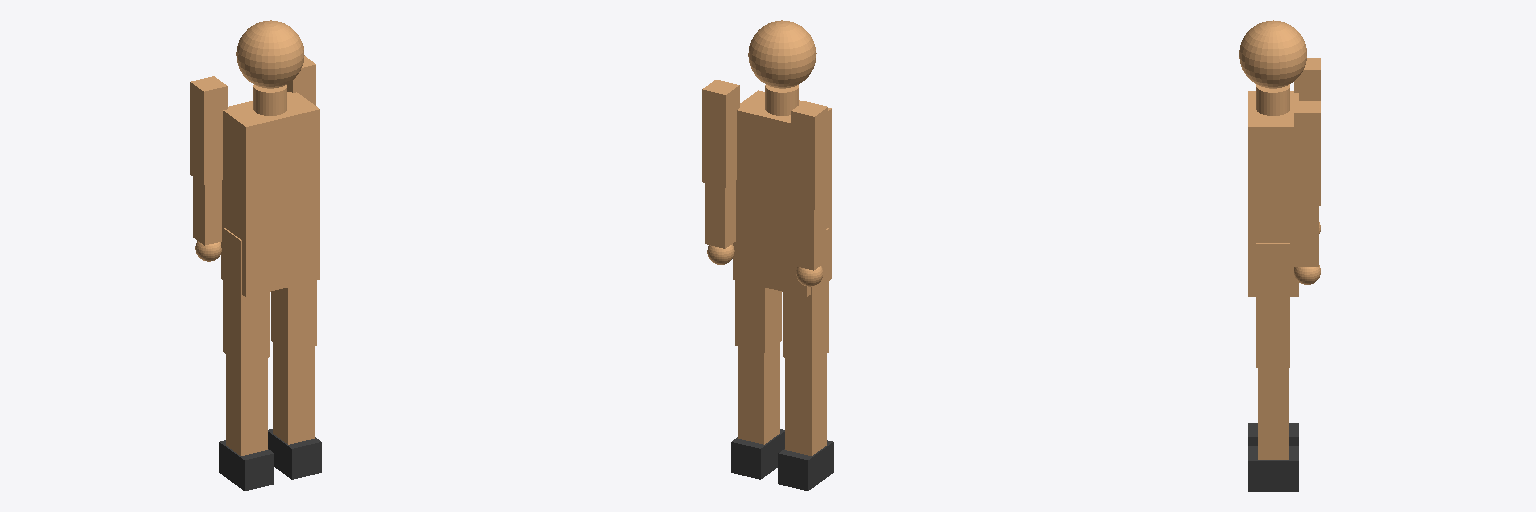
URDF robot description (human):
<?xml version="1.0" ?>
<robot name="human">

  <!-- Base link (pelvis) -->
  <link name="pelvis">
    <inertial>
      <mass value="10"/>
      <inertia ixx="0.5" ixy="0" ixz="0" iyy="0.5" iyz="0" izz="0.5"/>
    </inertial>
    <visual>
      <geometry>
        <box size="0.25 0.15 0.25"/>
      </geometry>
      <material name="skin">
        <color rgba="0.9 0.7 0.5 1"/>
      </material>
    </visual>
    <collision>
      <geometry>
        <box size="0.25 0.15 0.25"/>
      </geometry>
    </collision>
  </link>

  <!-- Torso -->
  <joint name="torso_joint" type="fixed">
    <parent link="pelvis"/>
    <child link="torso"/>
    <origin xyz="0 0 0.25" rpy="0 0 0"/>
  </joint>

  <link name="torso">
    <inertial>
      <mass value="8"/>
      <inertia ixx="0.3" ixy="0" ixz="0" iyy="0.3" iyz="0" izz="0.2"/>
    </inertial>
    <visual>
      <geometry>
        <box size="0.25 0.15 0.35"/>
      </geometry>
      <material name="skin">
        <color rgba="0.9 0.7 0.5 1"/>
      </material>
    </visual>
    <collision>
      <geometry>
        <box size="0.25 0.15 0.35"/>
      </geometry>
    </collision>
  </link>

  <!-- Neck -->
  <joint name="neck_joint" type="revolute">
    <parent link="torso"/>
    <child link="neck"/>
    <origin xyz="0 0 0.2" rpy="0 0 0"/>
    <axis xyz="0 1 0"/>
    <limit lower="-0.5" upper="0.5" effort="10" velocity="1"/>
  </joint>

  <link name="neck">
    <inertial>
      <mass value="1"/>
      <inertia ixx="0.01" ixy="0" ixz="0" iyy="0.01" iyz="0" izz="0.01"/>
    </inertial>
    <visual>
      <geometry>
        <cylinder length="0.1" radius="0.05"/>
      </geometry>
      <material name="skin">
        <color rgba="0.9 0.7 0.5 1"/>
      </material>
    </visual>
    <collision>
      <geometry>
        <cylinder length="0.1" radius="0.05"/>
      </geometry>
    </collision>
  </link>

  <!-- Head -->
  <joint name="head_joint" type="fixed">
    <parent link="neck"/>
    <child link="head"/>
    <origin xyz="0 0 0.15" rpy="0 0 0"/>
  </joint>

  <link name="head">
    <inertial>
      <mass value="2"/>
      <inertia ixx="0.05" ixy="0" ixz="0" iyy="0.05" iyz="0" izz="0.05"/>
    </inertial>
    <visual>
      <geometry>
        <sphere radius="0.1"/>
      </geometry>
      <material name="skin">
        <color rgba="0.9 0.7 0.5 1"/>
      </material>
    </visual>
    <collision>
      <geometry>
        <sphere radius="0.1"/>
      </geometry>
    </collision>
  </link>

  <!-- Left Arm -->
  <joint name="left_shoulder_joint" type="revolute">
    <parent link="torso"/>
    <child link="left_upper_arm"/>
    <origin xyz="0.15 0.1 0.1" rpy="0 0 0"/>
    <axis xyz="1 0 0"/>
    <limit lower="-2" upper="2" effort="10" velocity="2"/>
  </joint>

  <link name="left_upper_arm">
    <inertial>
      <mass value="2"/>
      <inertia ixx="0.02" ixy="0" ixz="0" iyy="0.02" iyz="0" izz="0.01"/>
    </inertial>
    <visual>
      <geometry>
        <box size="0.08 0.08 0.3"/>
      </geometry>
      <material name="skin">
        <color rgba="0.9 0.7 0.5 1"/>
      </material>
    </visual>
    <collision>
      <geometry>
        <box size="0.08 0.08 0.3"/>
      </geometry>
    </collision>
  </link>

  <joint name="left_elbow_joint" type="revolute">
    <parent link="left_upper_arm"/>
    <child link="left_forearm"/>
    <origin xyz="0 0 -0.2" rpy="0 0 0"/>
    <axis xyz="1 0 0"/>
    <limit lower="-2" upper="0" effort="10" velocity="2"/>
  </joint>

  <link name="left_forearm">
    <inertial>
      <mass value="1.5"/>
      <inertia ixx="0.01" ixy="0" ixz="0" iyy="0.01" iyz="0" izz="0.008"/>
    </inertial>
    <visual>
      <geometry>
        <box size="0.07 0.07 0.3"/>
      </geometry>
      <material name="skin">
        <color rgba="0.9 0.7 0.5 1"/>
      </material>
    </visual>
    <collision>
      <geometry>
        <box size="0.07 0.07 0.3"/>
      </geometry>
    </collision>
  </link>

  <!-- Left Hand (fist - closed hand to avoid stop gesture detection) -->
  <joint name="left_wrist_joint" type="fixed">
    <parent link="left_forearm"/>
    <child link="left_hand"/>
    <origin xyz="0 0 -0.18" rpy="0 0 0"/>
  </joint>

  <link name="left_hand">
    <inertial>
      <mass value="0.3"/>
      <inertia ixx="0.001" ixy="0" ixz="0" iyy="0.001" iyz="0" izz="0.001"/>
    </inertial>
    <visual>
      <geometry>
        <sphere radius="0.04"/>
      </geometry>
      <material name="skin">
        <color rgba="0.9 0.7 0.5 1"/>
      </material>
    </visual>
    <collision>
      <geometry>
        <sphere radius="0.04"/>
      </geometry>
    </collision>
  </link>

  <!-- Right Arm -->
  <joint name="right_shoulder_joint" type="revolute">
    <parent link="torso"/>
    <child link="right_upper_arm"/>
    <origin xyz="-0.15 0.1 0.1" rpy="0 0 0"/>
    <axis xyz="1 0 0"/>
    <limit lower="-2" upper="2" effort="10" velocity="2"/>
  </joint>

  <link name="right_upper_arm">
    <inertial>
      <mass value="2"/>
      <inertia ixx="0.02" ixy="0" ixz="0" iyy="0.02" iyz="0" izz="0.01"/>
    </inertial>
    <visual>
      <geometry>
        <box size="0.08 0.08 0.3"/>
      </geometry>
      <material name="skin">
        <color rgba="0.9 0.7 0.5 1"/>
      </material>
    </visual>
    <collision>
      <geometry>
        <box size="0.08 0.08 0.3"/>
      </geometry>
    </collision>
  </link>

  <joint name="right_elbow_joint" type="revolute">
    <parent link="right_upper_arm"/>
    <child link="right_forearm"/>
    <origin xyz="0 0 -0.2" rpy="0 0 0"/>
    <axis xyz="1 0 0"/>
    <limit lower="-2" upper="0" effort="10" velocity="2"/>
  </joint>

  <link name="right_forearm">
    <inertial>
      <mass value="1.5"/>
      <inertia ixx="0.01" ixy="0" ixz="0" iyy="0.01" iyz="0" izz="0.008"/>
    </inertial>
    <visual>
      <geometry>
        <box size="0.07 0.07 0.3"/>
      </geometry>
      <material name="skin">
        <color rgba="0.9 0.7 0.5 1"/>
      </material>
    </visual>
    <collision>
      <geometry>
        <box size="0.07 0.07 0.3"/>
      </geometry>
    </collision>
  </link>

  <!-- Right Hand (fist - closed hand to avoid stop gesture detection) -->
  <joint name="right_wrist_joint" type="fixed">
    <parent link="right_forearm"/>
    <child link="right_hand"/>
    <origin xyz="0 0 -0.18" rpy="0 0 0"/>
  </joint>

  <link name="right_hand">
    <inertial>
      <mass value="0.3"/>
      <inertia ixx="0.001" ixy="0" ixz="0" iyy="0.001" iyz="0" izz="0.001"/>
    </inertial>
    <visual>
      <geometry>
        <sphere radius="0.04"/>
      </geometry>
      <material name="skin">
        <color rgba="0.9 0.7 0.5 1"/>
      </material>
    </visual>
    <collision>
      <geometry>
        <sphere radius="0.04"/>
      </geometry>
    </collision>
  </link>

  <!-- Left Leg -->
  <joint name="left_hip_joint" type="revolute">
    <parent link="pelvis"/>
    <child link="left_upper_leg"/>
    <origin xyz="0.08 0 -0.15" rpy="0 0 0"/>
    <axis xyz="1 0 0"/>
    <limit lower="-1.5" upper="1.5" effort="15" velocity="2"/>
  </joint>

  <link name="left_upper_leg">
    <inertial>
      <mass value="4"/>
      <inertia ixx="0.08" ixy="0" ixz="0" iyy="0.08" iyz="0" izz="0.03"/>
    </inertial>
    <visual>
      <geometry>
        <box size="0.1 0.1 0.4"/>
      </geometry>
      <material name="skin">
        <color rgba="0.9 0.7 0.5 1"/>
      </material>
    </visual>
    <collision>
      <geometry>
        <box size="0.1 0.1 0.4"/>
      </geometry>
    </collision>
  </link>

  <joint name="left_knee_joint" type="revolute">
    <parent link="left_upper_leg"/>
    <child link="left_lower_leg"/>
    <origin xyz="0 0 -0.3" rpy="0 0 0"/>
    <axis xyz="1 0 0"/>
    <limit lower="0" upper="2" effort="15" velocity="2"/>
  </joint>

  <link name="left_lower_leg">
    <inertial>
      <mass value="3"/>
      <inertia ixx="0.05" ixy="0" ixz="0" iyy="0.05" iyz="0" izz="0.02"/>
    </inertial>
    <visual>
      <geometry>
        <box size="0.09 0.09 0.4"/>
      </geometry>
      <material name="skin">
        <color rgba="0.9 0.7 0.5 1"/>
      </material>
    </visual>
    <collision>
      <geometry>
        <box size="0.09 0.09 0.4"/>
      </geometry>
    </collision>
  </link>

  <joint name="left_ankle_joint" type="fixed">
    <parent link="left_lower_leg"/>
    <child link="left_foot"/>
    <origin xyz="0 0 -0.25" rpy="0 0 0"/>
  </joint>

  <link name="left_foot">
    <inertial>
      <mass value="1"/>
      <inertia ixx="0.01" ixy="0" ixz="0" iyy="0.01" iyz="0" izz="0.01"/>
    </inertial>
    <visual>
      <geometry>
        <box size="0.1 0.15 0.1"/>
      </geometry>
      <material name="skin">
        <color rgba="0.3 0.3 0.3 1"/>
      </material>
    </visual>
    <collision>
      <geometry>
        <box size="0.1 0.15 0.1"/>
      </geometry>
    </collision>
  </link>

  <!-- Right Leg -->
  <joint name="right_hip_joint" type="revolute">
    <parent link="pelvis"/>
    <child link="right_upper_leg"/>
    <origin xyz="-0.08 0 -0.15" rpy="0 0 0"/>
    <axis xyz="1 0 0"/>
    <limit lower="-1.5" upper="1.5" effort="15" velocity="2"/>
  </joint>

  <link name="right_upper_leg">
    <inertial>
      <mass value="4"/>
      <inertia ixx="0.08" ixy="0" ixz="0" iyy="0.08" iyz="0" izz="0.03"/>
    </inertial>
    <visual>
      <geometry>
        <box size="0.1 0.1 0.4"/>
      </geometry>
      <material name="skin">
        <color rgba="0.9 0.7 0.5 1"/>
      </material>
    </visual>
    <collision>
      <geometry>
        <box size="0.1 0.1 0.4"/>
      </geometry>
    </collision>
  </link>

  <joint name="right_knee_joint" type="revolute">
    <parent link="right_upper_leg"/>
    <child link="right_lower_leg"/>
    <origin xyz="0 0 -0.3" rpy="0 0 0"/>
    <axis xyz="1 0 0"/>
    <limit lower="0" upper="2" effort="15" velocity="2"/>
  </joint>

  <link name="right_lower_leg">
    <inertial>
      <mass value="3"/>
      <inertia ixx="0.05" ixy="0" ixz="0" iyy="0.05" iyz="0" izz="0.02"/>
    </inertial>
    <visual>
      <geometry>
        <box size="0.09 0.09 0.4"/>
      </geometry>
      <material name="skin">
        <color rgba="0.9 0.7 0.5 1"/>
      </material>
    </visual>
    <collision>
      <geometry>
        <box size="0.09 0.09 0.4"/>
      </geometry>
    </collision>
  </link>

  <joint name="right_ankle_joint" type="fixed">
    <parent link="right_lower_leg"/>
    <child link="right_foot"/>
    <origin xyz="0 0 -0.25" rpy="0 0 0"/>
  </joint>

  <link name="right_foot">
    <inertial>
      <mass value="1"/>
      <inertia ixx="0.01" ixy="0" ixz="0" iyy="0.01" iyz="0" izz="0.01"/>
    </inertial>
    <visual>
      <geometry>
        <box size="0.1 0.15 0.1"/>
      </geometry>
      <material name="skin">
        <color rgba="0.3 0.3 0.3 1"/>
      </material>
    </visual>
    <collision>
      <geometry>
        <box size="0.1 0.15 0.1"/>
      </geometry>
    </collision>
  </link>

</robot>

--- Render facts (derived) ---
3 views of the same robot in one strip: view 1: azimuth 30°, elevation 25°; view 2: azimuth 150°, elevation 25°; view 3: azimuth 270°, elevation 25° (orthographic).
Model human with 16 links and 15 joints (9 revolute, 6 fixed), rooted at pelvis, posed all joints at 0.
Links seen in each view (by area): view 1: torso, pelvis, right_upper_leg, left_lower_leg, right_lower_leg, head, right_upper_arm, left_upper_leg, right_foot, left_foot, right_forearm, neck (+1 smaller); view 2: torso, pelvis, left_lower_leg, right_lower_leg, right_upper_arm, left_upper_arm, head, right_upper_leg, left_upper_leg, right_forearm, right_foot, left_forearm (+2 smaller); view 3: torso, left_upper_leg, head, left_lower_leg, left_upper_arm, left_foot, pelvis, left_forearm, neck, right_upper_arm.
Link boxes in pixels (x1=…): torso: x1=222, y1=92, x2=319, y2=234; pelvis: x1=221, y1=202, x2=319, y2=297; right_upper_leg: x1=223, y1=228, x2=269, y2=363; left_lower_leg: x1=273, y1=342, x2=314, y2=444; right_lower_leg: x1=226, y1=354, x2=267, y2=455; head: x1=236, y1=20, x2=304, y2=88; right_upper_arm: x1=190, y1=76, x2=227, y2=184; left_upper_leg: x1=271, y1=280, x2=316, y2=352; right_foot: x1=219, y1=440, x2=273, y2=490; left_foot: x1=268, y1=429, x2=321, y2=479; right_forearm: x1=193, y1=177, x2=221, y2=245; neck: x1=253, y1=85, x2=286, y2=115; torso: x1=736, y1=90, x2=831, y2=231; pelvis: x1=733, y1=202, x2=831, y2=297; left_lower_leg: x1=738, y1=342, x2=779, y2=444; right_lower_leg: x1=785, y1=354, x2=826, y2=455; right_upper_arm: x1=791, y1=101, x2=827, y2=209; left_upper_arm: x1=702, y1=80, x2=739, y2=187; head: x1=748, y1=20, x2=816, y2=88; right_upper_leg: x1=783, y1=228, x2=828, y2=363; left_upper_leg: x1=735, y1=280, x2=781, y2=352; right_forearm: x1=793, y1=202, x2=825, y2=270; right_foot: x1=778, y1=440, x2=833, y2=490; left_forearm: x1=705, y1=181, x2=735, y2=248; torso: x1=1248, y1=91, x2=1298, y2=234; left_upper_leg: x1=1256, y1=243, x2=1289, y2=367; head: x1=1239, y1=20, x2=1306, y2=88; left_lower_leg: x1=1258, y1=368, x2=1288, y2=459; left_upper_arm: x1=1294, y1=101, x2=1320, y2=205; left_foot: x1=1248, y1=446, x2=1298, y2=491; pelvis: x1=1248, y1=220, x2=1298, y2=296; left_forearm: x1=1295, y1=206, x2=1318, y2=266; neck: x1=1256, y1=84, x2=1289, y2=115; right_upper_arm: x1=1294, y1=58, x2=1320, y2=100.
Bounding box of the posed robot: 0.38 × 0.24 × 1.45 m (x, y, z).
Geometry: primitives only (box / cylinder / sphere), no mesh files.
